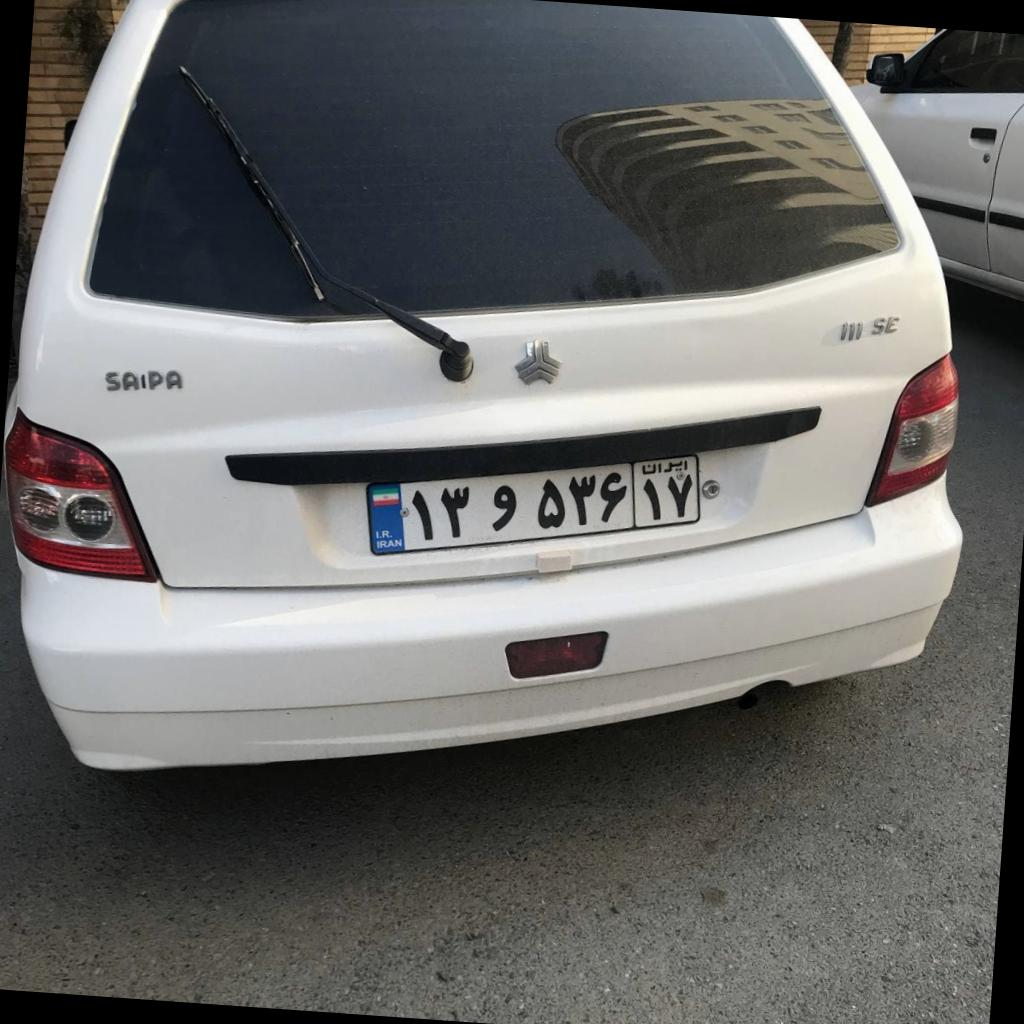Plates: (365, 455, 701, 555)
